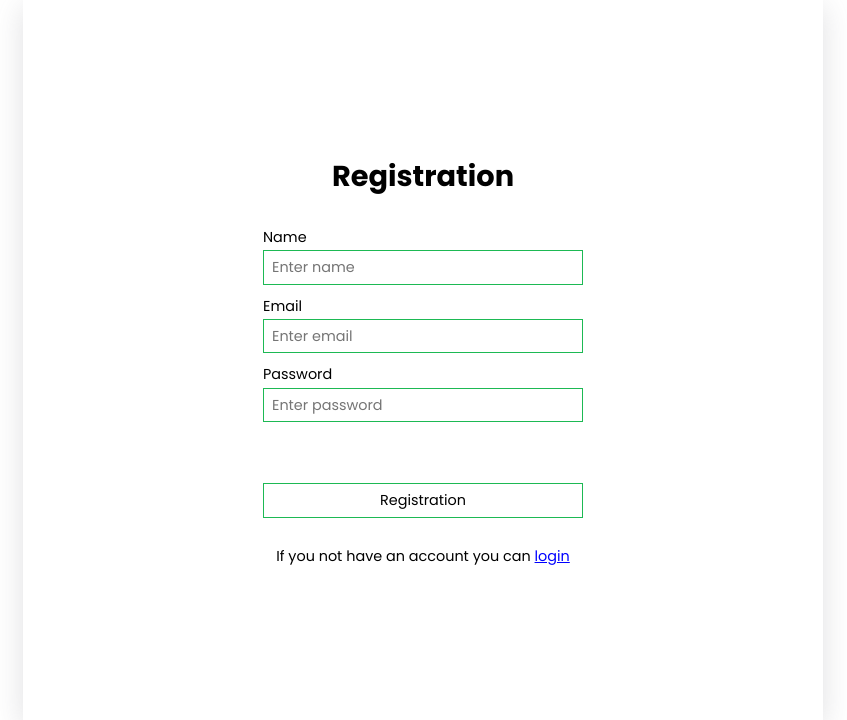
Test case: App View › Go to the login view after successful registration
Type "user" into the field with placeholder "Enter name" at x=423, y=267, box x1=263 y1=250 x2=583 y2=285
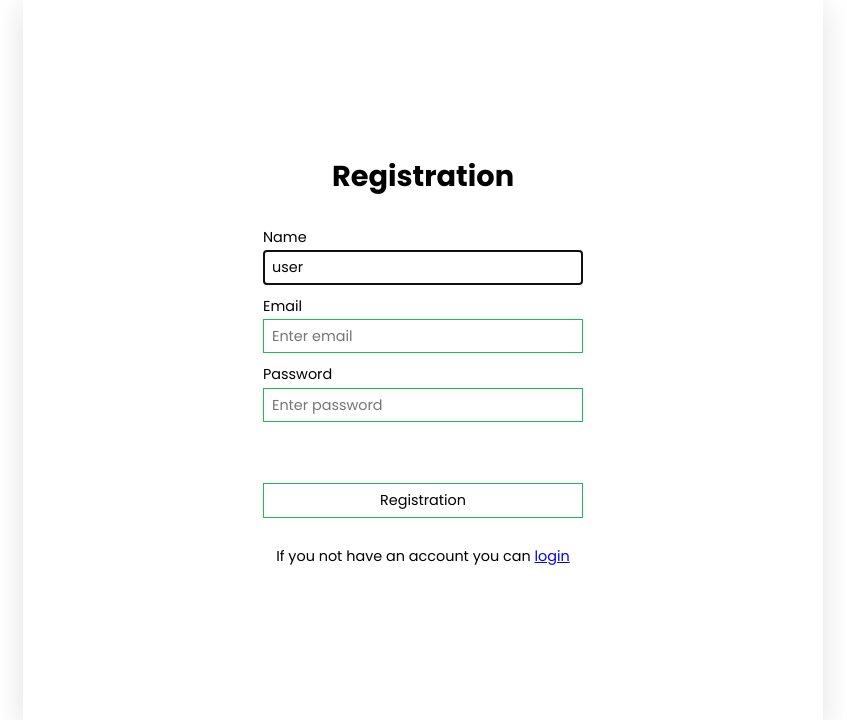
Type "user@email.com" into the field with placeholder "Enter email" at x=423, y=336, box x1=263 y1=319 x2=583 y2=353
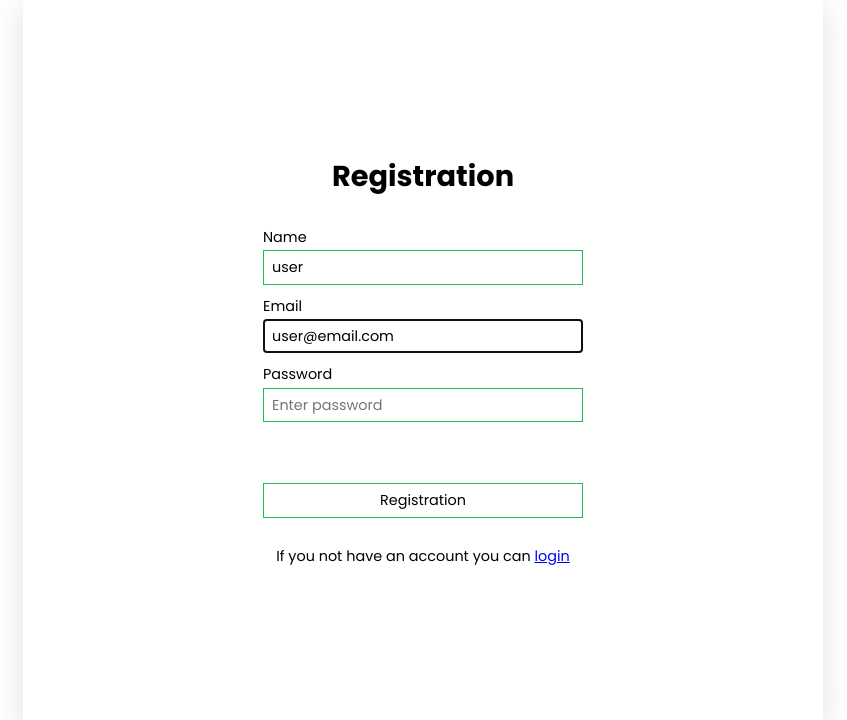
Type "password123" into the password field with placeholder "Enter password" at x=423, y=405, box x1=263 y1=388 x2=583 y2=422
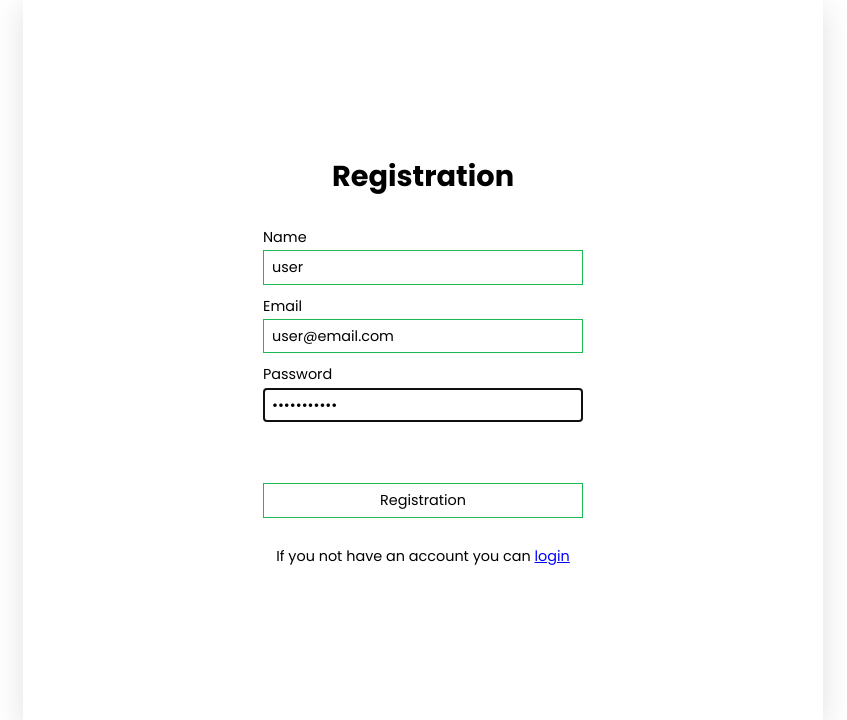
Click the button "Registration" at x=423, y=500, box x1=263 y1=483 x2=583 y2=518
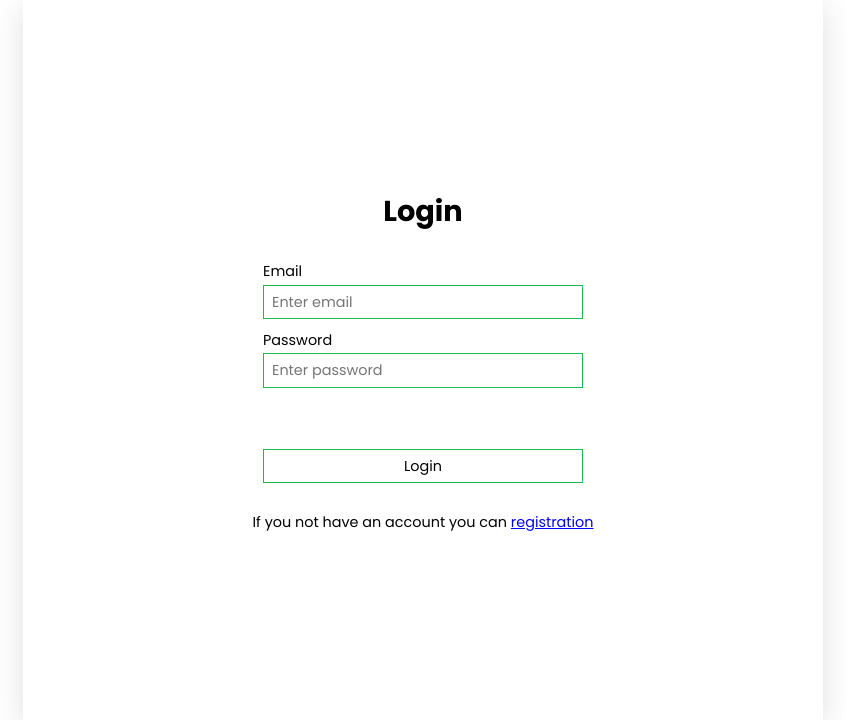
Result: the heading "Login" is shown at x1=383 y1=195 x2=463 y2=228
